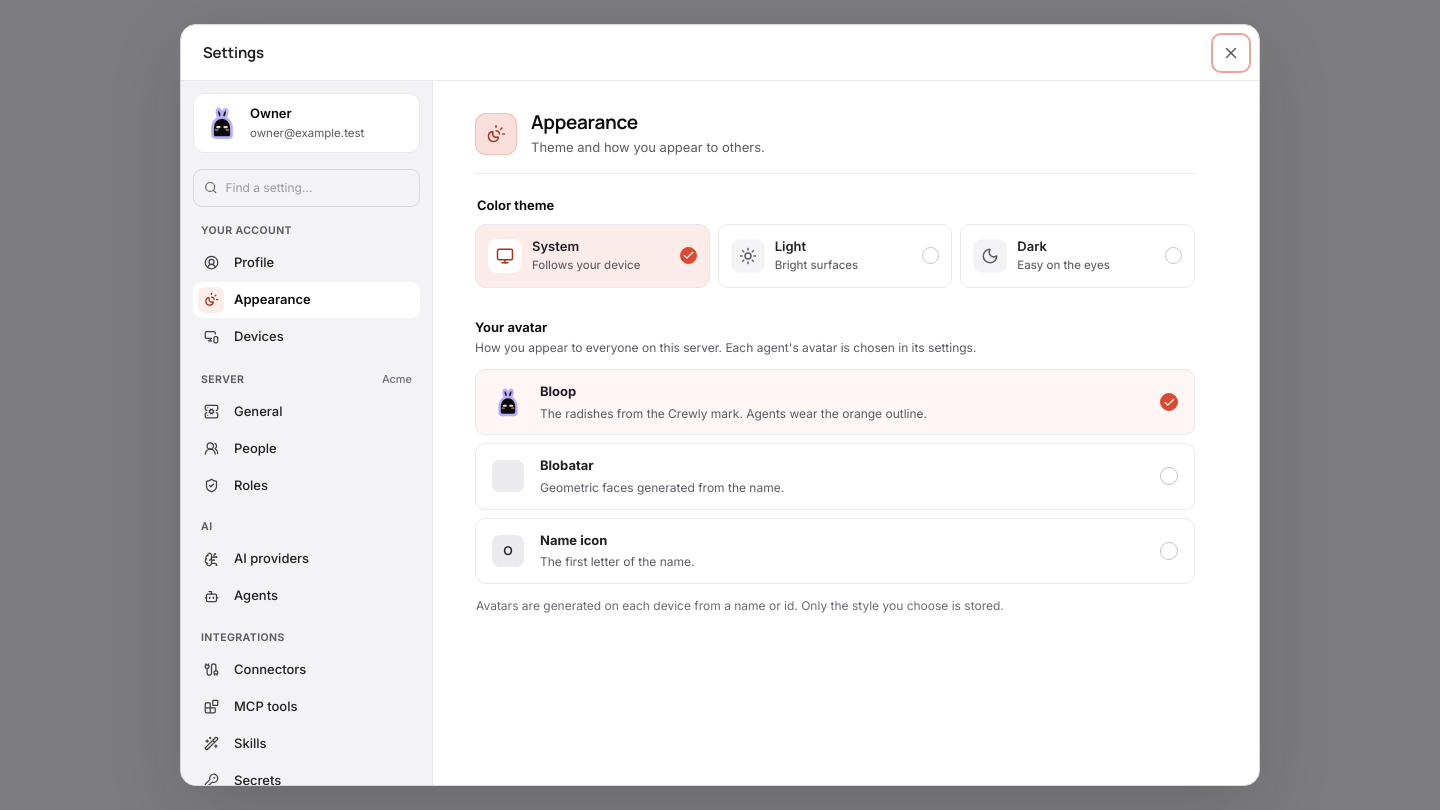
Test case: filters settings without losing the current section
Type "provider" into the search field named "Search settings".
click(317, 188); type("provider")  # box [225,171,409,205]
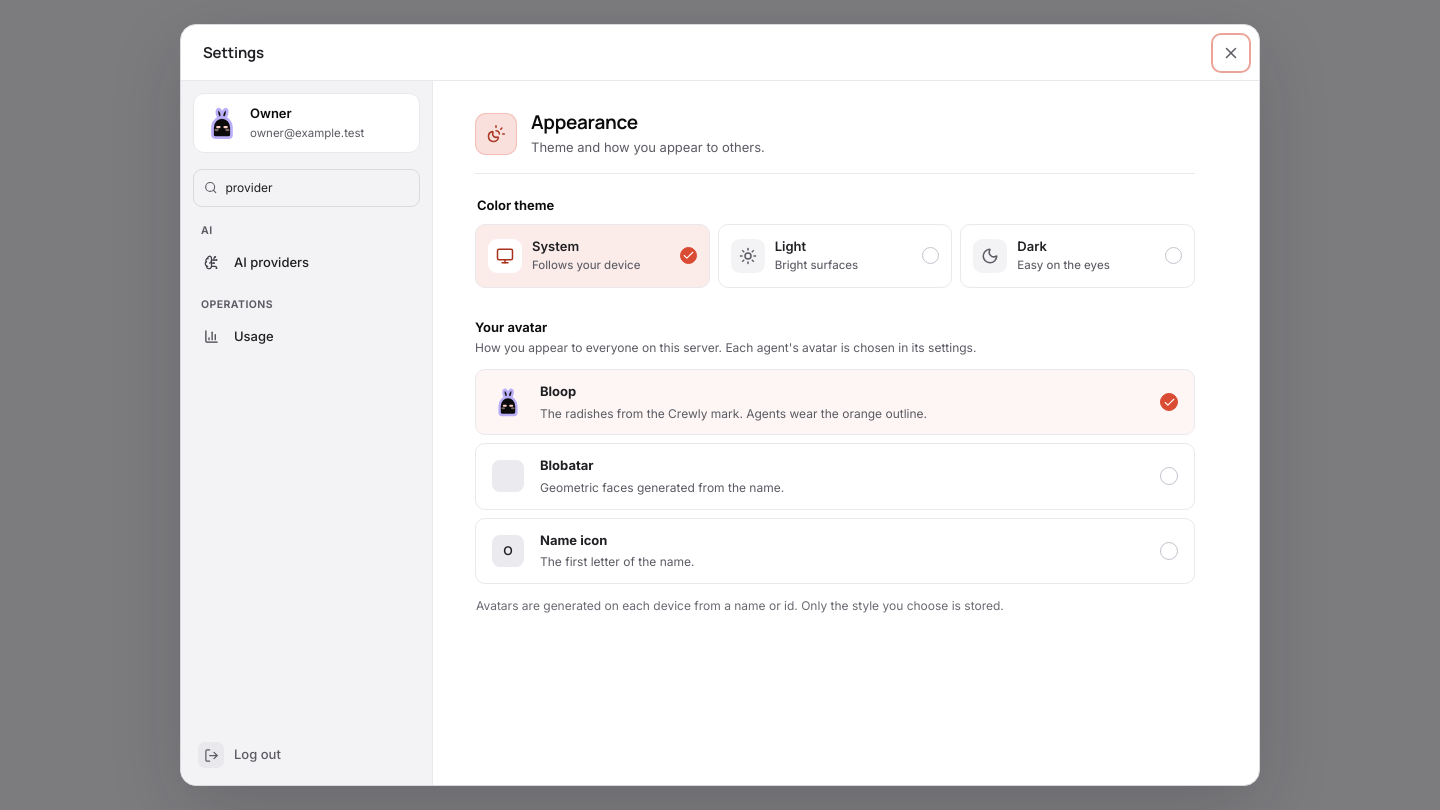
Expected: the button "AI providers" is shown, [193,244,420,280]
Expected: the button "People" is gone
